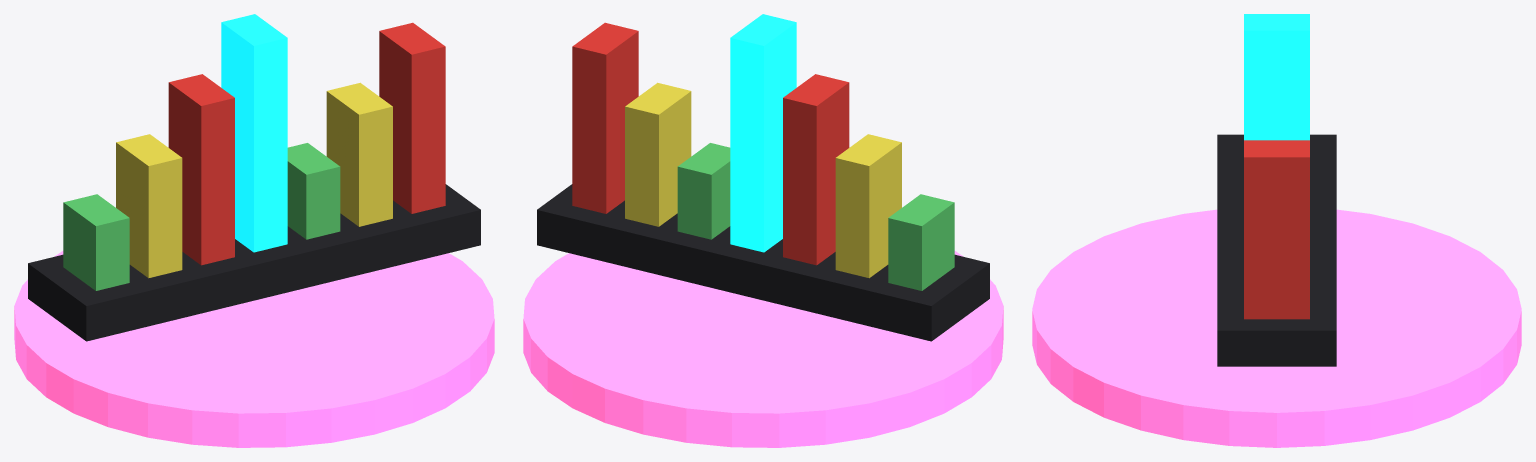
The model's file is music_equalizer.glb.
3 renders of one model, left to right at view 1: azimuth 30°, elevation 25°; view 2: azimuth 150°, elevation 25°; view 3: azimuth 270°, elevation 25°, orthographic.
Parts seen in each view (by area): view 1: 07_15_Popular_Music_Equalizer_ROOT_base, 07_15_Popular_Music_Equalizer_part_01, 07_15_Popular_Music_Equalizer_part_05, 07_15_Popular_Music_Equalizer_part_04, 07_15_Popular_Music_Equalizer_part_08, 07_15_Popular_Music_Equalizer_part_03, 07_15_Popular_Music_Equalizer_part_07, 07_15_Popular_Music_Equalizer_part_02, 07_15_Popular_Music_Equalizer_part_06; view 2: 07_15_Popular_Music_Equalizer_ROOT_base, 07_15_Popular_Music_Equalizer_part_01, 07_15_Popular_Music_Equalizer_part_05, 07_15_Popular_Music_Equalizer_part_04, 07_15_Popular_Music_Equalizer_part_08, 07_15_Popular_Music_Equalizer_part_03, 07_15_Popular_Music_Equalizer_part_07, 07_15_Popular_Music_Equalizer_part_02, 07_15_Popular_Music_Equalizer_part_06; view 3: 07_15_Popular_Music_Equalizer_ROOT_base, 07_15_Popular_Music_Equalizer_part_01, 07_15_Popular_Music_Equalizer_part_08, 07_15_Popular_Music_Equalizer_part_05.
Part boxes in pixels (box(x1,y1,x2,y2)): 07_15_Popular_Music_Equalizer_ROOT_base: box(14, 251, 494, 447); 07_15_Popular_Music_Equalizer_part_01: box(28, 184, 480, 341); 07_15_Popular_Music_Equalizer_part_05: box(221, 14, 287, 252); 07_15_Popular_Music_Equalizer_part_04: box(168, 74, 234, 265); 07_15_Popular_Music_Equalizer_part_08: box(379, 22, 445, 213); 07_15_Popular_Music_Equalizer_part_03: box(116, 134, 182, 278); 07_15_Popular_Music_Equalizer_part_07: box(326, 82, 392, 226); 07_15_Popular_Music_Equalizer_part_02: box(63, 194, 129, 290); 07_15_Popular_Music_Equalizer_part_06: box(287, 143, 340, 239); 07_15_Popular_Music_Equalizer_ROOT_base: box(523, 251, 1003, 447); 07_15_Popular_Music_Equalizer_part_01: box(537, 184, 989, 341); 07_15_Popular_Music_Equalizer_part_05: box(730, 14, 796, 252); 07_15_Popular_Music_Equalizer_part_04: box(783, 74, 849, 265); 07_15_Popular_Music_Equalizer_part_08: box(572, 22, 638, 213); 07_15_Popular_Music_Equalizer_part_03: box(835, 134, 901, 278); 07_15_Popular_Music_Equalizer_part_07: box(625, 82, 691, 226); 07_15_Popular_Music_Equalizer_part_02: box(888, 194, 954, 290); 07_15_Popular_Music_Equalizer_part_06: box(677, 143, 730, 239); 07_15_Popular_Music_Equalizer_ROOT_base: box(1032, 209, 1521, 447); 07_15_Popular_Music_Equalizer_part_01: box(1217, 134, 1336, 366); 07_15_Popular_Music_Equalizer_part_08: box(1244, 140, 1309, 319); 07_15_Popular_Music_Equalizer_part_05: box(1244, 14, 1309, 140).
Size of the model in its own units: 0.76 by 0.5517 by 0.76.
